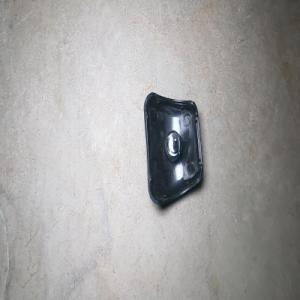LuggagePart: (142, 89, 203, 207)
